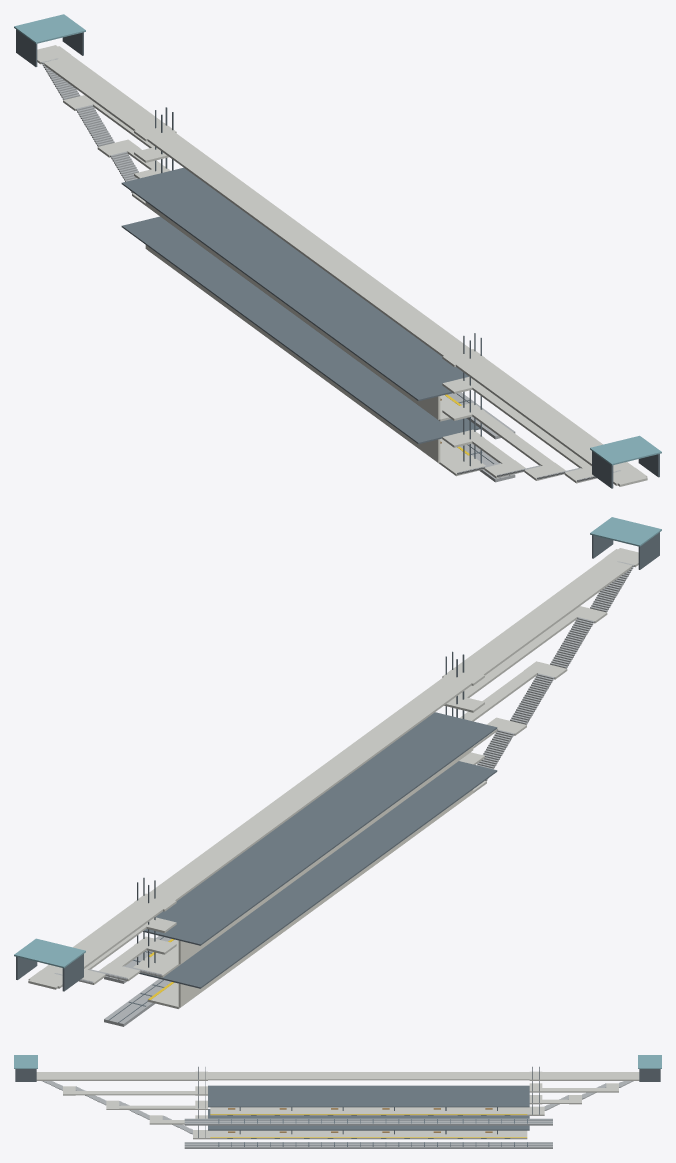
The model's file is burrard.glb.
3 renders of one model, top to bottom at view 1: azimuth 30°, elevation 25°; view 2: azimuth 150°, elevation 25°; view 3: azimuth 270°, elevation 25°, orthographic. The views are drawn at different scales.
Visible parts, largest first — view 1: batch-removable-roof-steel, floor-burrard-street-plaza-northsouth, batch-wall-wall, batch-removable-roof-glass, batch-stair-tread-concrete, floor-burrard-lower-lift-side, batch-static-steel, floor-burrard-lower-lift-corridor-3, floor-burrard-lower-lift-corridor-2, batch-trackbed-concrete, batch-lift-shaft-steel; view 2: batch-removable-roof-steel, floor-burrard-street-plaza-northsouth, batch-stair-tread-concrete, batch-wall-wall, batch-removable-roof-glass, floor-burrard-lower-lift-side, batch-static-steel, floor-burrard-lower-lift-corridor-3, batch-trackbed-concrete, floor-burrard-upper-lift-side, floor-burrard-lower-lift-corridor-2; view 3: batch-removable-roof-steel, batch-trackbed-concrete, floor-burrard-street-plaza-northsouth, floor-burrard-lower, floor-burrard-upper, batch-rail-steel, floor-burrard-lower-lift-side, batch-stair-tread-concrete, batch-removable-roof-glass, batch-static-steel, batch-static-yellow, floor-burrard-lower-lift-corridor-3 (+7 smaller).
Boxes of the visible parts, left/top/right/bottom form: batch-removable-roof-steel: left=121, top=167, right=480, bottom=444; floor-burrard-street-plaza-northsouth: left=37, top=45, right=647, bottom=486; batch-wall-wall: left=145, top=202, right=440, bottom=462; batch-removable-roof-glass: left=14, top=14, right=661, bottom=465; batch-stair-tread-concrete: left=41, top=58, right=620, bottom=481; floor-burrard-lower-lift-side: left=462, top=350, right=645, bottom=479; batch-static-steel: left=16, top=29, right=659, bottom=488; floor-burrard-lower-lift-corridor-3: left=465, top=379, right=590, bottom=468; floor-burrard-lower-lift-corridor-2: left=472, top=411, right=565, bottom=476; batch-trackbed-concrete: left=448, top=392, right=515, bottom=482; batch-lift-shaft-steel: left=155, top=107, right=481, bottom=466; batch-removable-roof-steel: left=139, top=712, right=497, bottom=988; floor-burrard-street-plaza-northsouth: left=28, top=548, right=638, bottom=989; batch-stair-tread-concrete: left=54, top=561, right=634, bottom=983; batch-wall-wall: left=178, top=746, right=473, bottom=1007; batch-removable-roof-glass: left=14, top=517, right=661, bottom=968; floor-burrard-lower-lift-side: left=442, top=549, right=628, bottom=679; batch-static-steel: left=16, top=532, right=659, bottom=991; floor-burrard-lower-lift-corridor-3: left=444, top=608, right=586, bottom=708; batch-trackbed-concrete: left=104, top=936, right=171, bottom=1026; floor-burrard-upper-lift-side: left=29, top=893, right=157, bottom=979; floor-burrard-lower-lift-corridor-2: left=460, top=661, right=547, bottom=721; batch-removable-roof-steel: left=208, top=1085, right=529, bottom=1130; batch-trackbed-concrete: left=184, top=1118, right=552, bottom=1148; floor-burrard-street-plaza-northsouth: left=36, top=1072, right=639, bottom=1080; floor-burrard-lower: left=210, top=1130, right=527, bottom=1139; floor-burrard-upper: left=210, top=1107, right=527, bottom=1115; batch-rail-steel: left=185, top=1119, right=552, bottom=1146; floor-burrard-lower-lift-side: left=36, top=1076, right=207, bottom=1080; batch-stair-tread-concrete: left=42, top=1081, right=633, bottom=1134; batch-removable-roof-glass: left=14, top=1055, right=661, bottom=1068; batch-static-steel: left=15, top=1069, right=660, bottom=1134; batch-static-yellow: left=210, top=1114, right=527, bottom=1137; floor-burrard-lower-lift-corridor-3: left=75, top=1091, right=207, bottom=1095.
Bounding box in the file's own units: 11.5 × 20.02 × 151.
